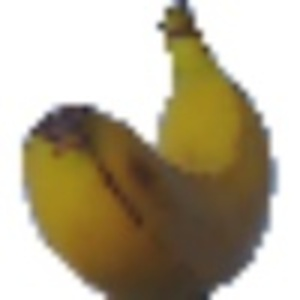banana: (16, 3, 274, 300)
